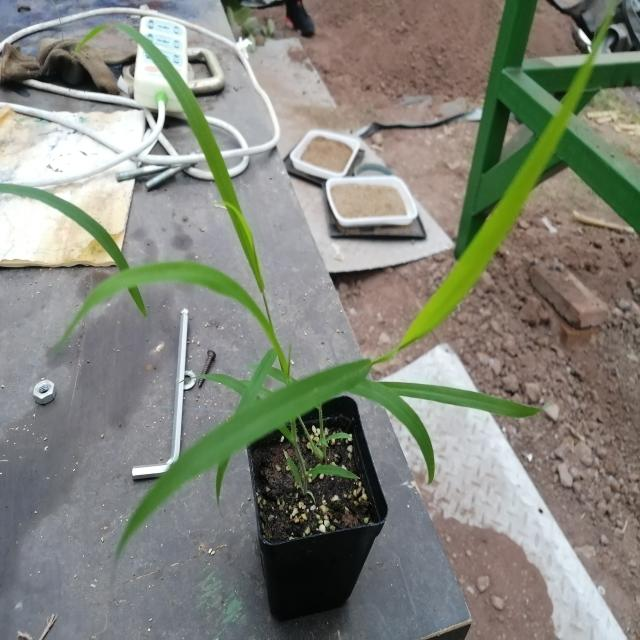crabgrass: (83, 252, 593, 528), (59, 21, 307, 406)
